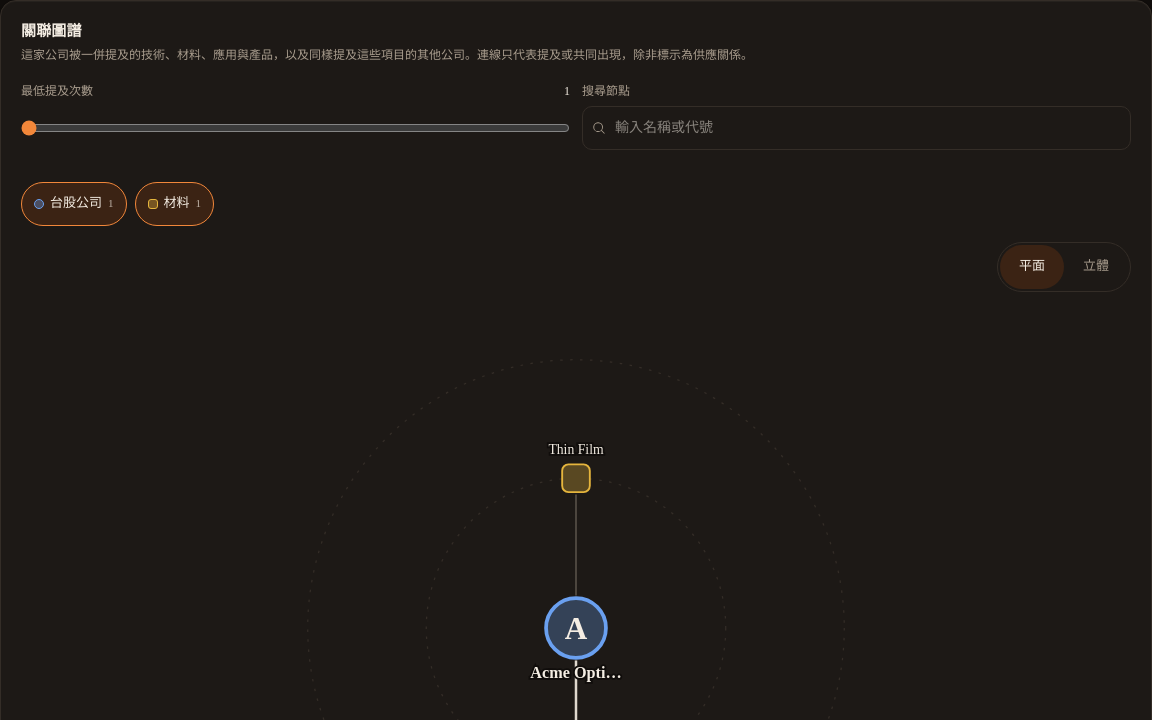
Test: EntityGraph view toggle › falls back to the flat view with a calm note when the scene cannot start
The width and height of the screenshot is (1152, 720).
Click the tab "立體". click: (1096, 266)
box: [1064, 244, 1128, 288]
(page scrolled)
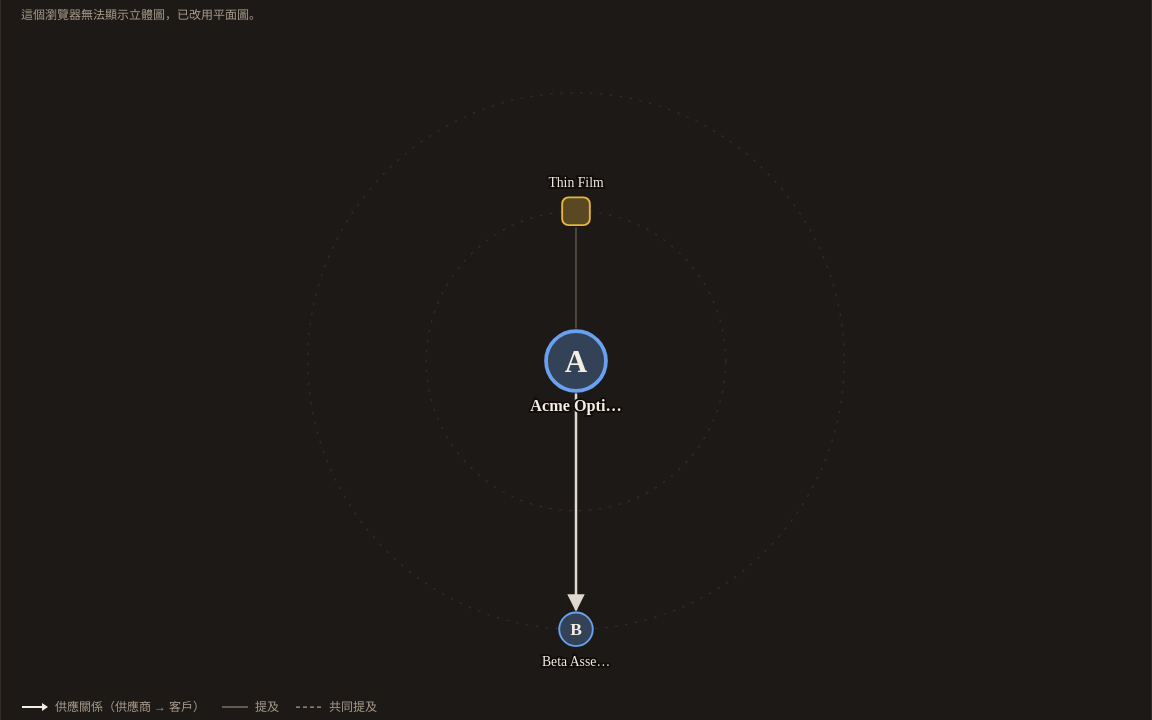
Check: the text "這個瀏覽器無法顯示立體圖，已改用平面圖。" is shown, box [21, 8, 261, 22]
Check: the element "檢視方式" is gone
